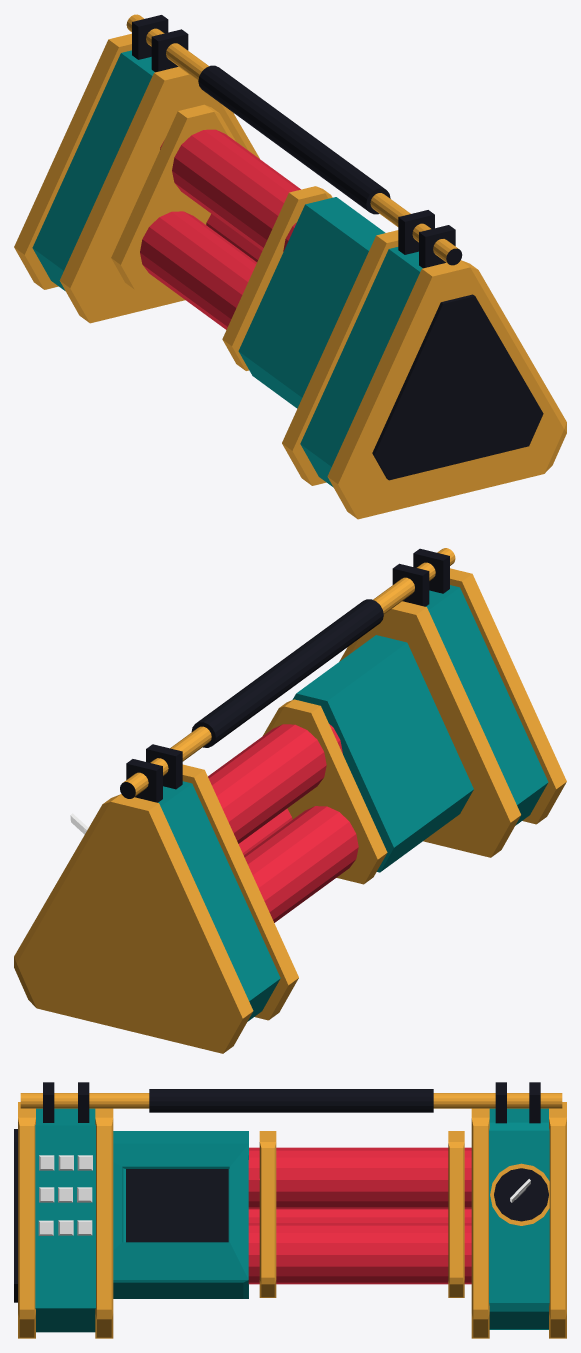
Rendered from Bomb.fbx.
The picture shows the model from 3 angles, top to bottom: view 1: azimuth 30°, elevation 25°; view 2: azimuth 150°, elevation 25°; view 3: azimuth 270°, elevation 25°; orthographic projection. The views are drawn at different scales.
Parts seen in each view (by area): view 1: Cube.001, Cube.007, Cube.005, Cube.002, Cube.008, Cube, Cube.004, 柱体.001, Cube.009, Cube.006, Cube.003, 柱体 (+4 smaller); view 2: Cube.009, Cube.001, Cube.002, Cube.006, Cube, Cube.003, 柱体.001, Cube.007, Cube.008, 柱体, 立方体.010, 立方体.011 (+2 smaller); view 3: Cube.001, Cube.002, Cube, 柱体.001, Cube.008, Cube.006, Cube.009, Cube.007, 柱体, Cube.003, Cube.004, 柱体.003 (+6 smaller).
Part boxes in pixels (<box>): Cube.001: <box>32,50,300,329</box>; Cube.007: <box>327,260,566,519</box>; Cube.005: <box>372,294,543,480</box>; Cube.002: <box>238,197,385,408</box>; Cube.008: <box>59,66,259,323</box>; Cube: <box>300,247,422,487</box>; Cube.004: <box>111,104,235,289</box>; 柱体.001: <box>198,65,390,214</box>; Cube.009: <box>14,33,131,289</box>; Cube.006: <box>282,230,398,485</box>; Cube.003: <box>222,186,332,370</box>; 柱体: <box>126,14,462,265</box>; Cube.009: <box>14,794,253,1053</box>; Cube.001: <box>158,724,358,1021</box>; Cube.002: <box>292,635,473,872</box>; Cube.006: <box>339,601,520,857</box>; Cube: <box>426,585,548,825</box>; Cube.003: <box>263,699,387,884</box>; 柱体.001: <box>191,599,383,747</box>; Cube.007: <box>450,568,566,824</box>; Cube.008: <box>182,764,298,1020</box>; 柱体: <box>120,548,455,798</box>; 立方体.010: <box>126,759,162,802</box>; 立方体.011: <box>392,563,429,606</box>; Cube.001: <box>248,1108,549,1329</box>; Cube.002: <box>113,1131,248,1298</box>; Cube: <box>35,1108,95,1332</box>; 柱体.001: <box>149,1089,433,1112</box>; Cube.008: <box>471,1108,489,1338</box>; Cube.006: <box>95,1108,113,1338</box>; Cube.009: <box>549,1102,566,1338</box>; Cube.007: <box>18,1102,35,1338</box>; 柱体: <box>20,1093,562,1108</box>; Cube.003: <box>259,1131,276,1297</box>; Cube.004: <box>448,1131,464,1297</box>; 柱体.003: <box>494,1168,548,1221</box>.
Bounding box in the file's own units: 1307 × 1367 × 3216.
